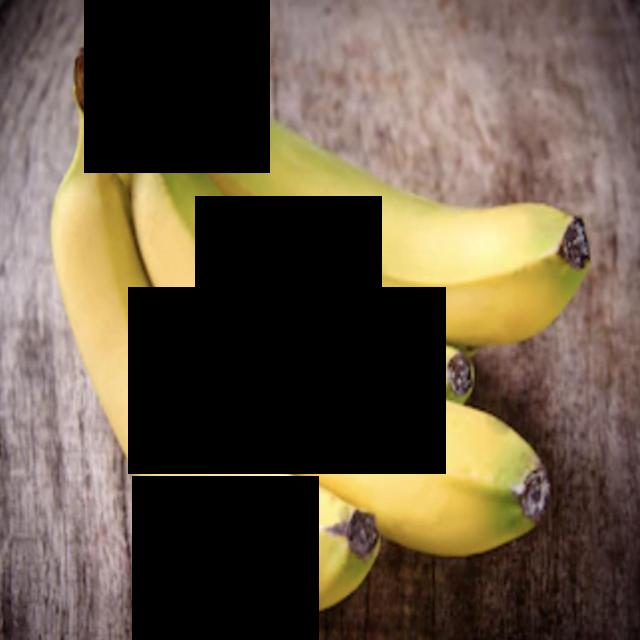banana: (8, 82, 376, 638), (146, 111, 574, 584), (143, 20, 625, 389)
